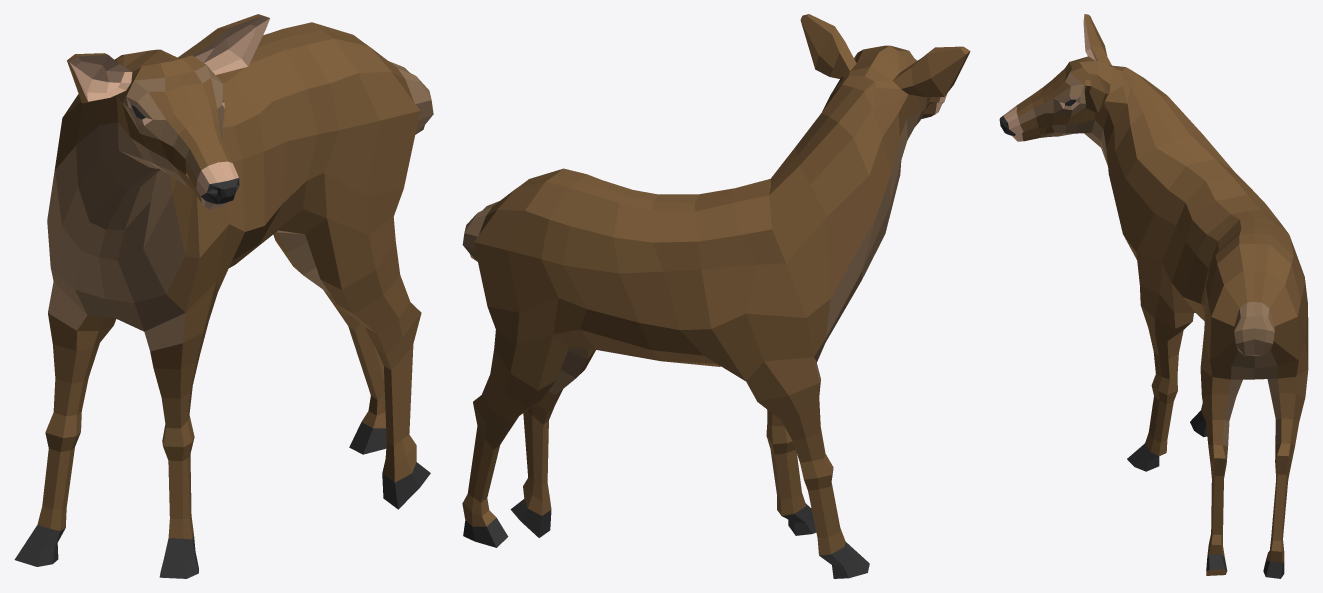
Rendered from Doe_Posed.fbx.
3 renders of one model, left to right at view 1: azimuth 30°, elevation 25°; view 2: azimuth 150°, elevation 25°; view 3: azimuth 270°, elevation 25°, orthographic. The views are drawn at different scales.
Visible parts, largest first — view 1: Doe Posed; view 2: Doe Posed; view 3: Doe Posed.
Part boxes in pixels (x1,y1,x2,y2): Doe Posed: [14, 14, 433, 578]; Doe Posed: [462, 14, 970, 578]; Doe Posed: [999, 14, 1308, 578].
Bounding box in the file's own units: 108 × 134 × 88.16.
